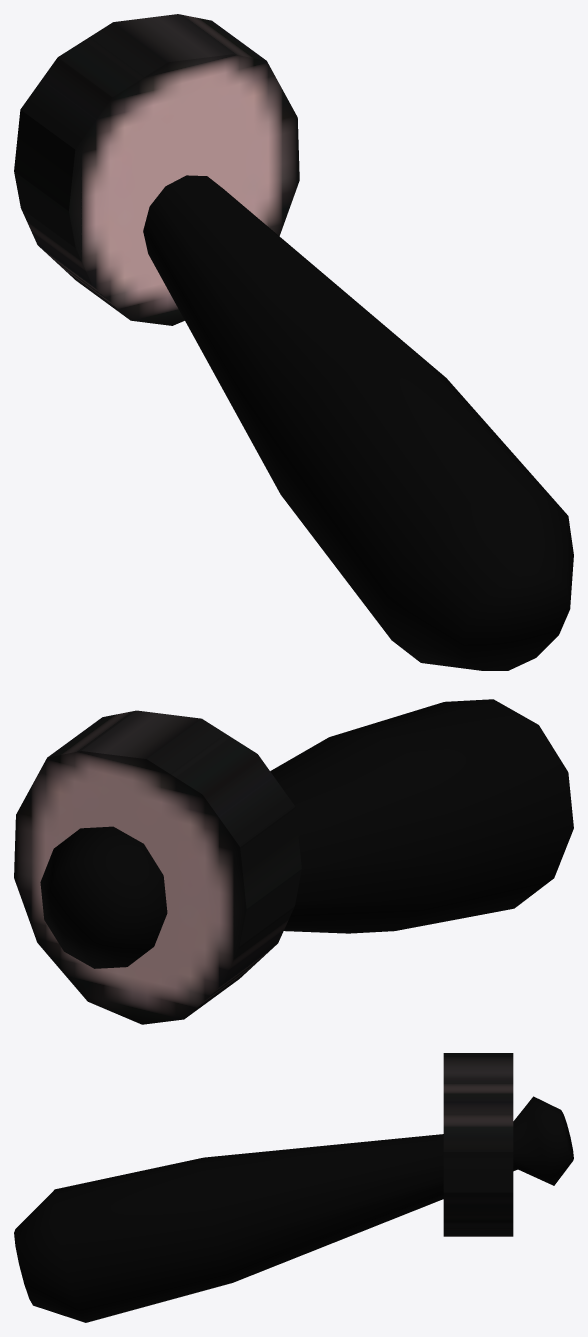
Rendered from Mano_Manganello.fbx.
3 renders of one model, top to bottom at view 1: azimuth 30°, elevation 25°; view 2: azimuth 150°, elevation 25°; view 3: azimuth 270°, elevation 25°, orthographic. The views are drawn at different scales.
Parts seen in each view (by area): view 1: pCylinder4; view 2: pCylinder4; view 3: pCylinder4.
Boxes of the visible parts, left/top/right/bottom form: pCylinder4: left=14, top=14, right=573, bottom=670; pCylinder4: left=14, top=699, right=573, bottom=1024; pCylinder4: left=14, top=1053, right=573, bottom=1322.
Bounding box in the file's own units: 0.1066 × 0.1767 × 0.3526.
